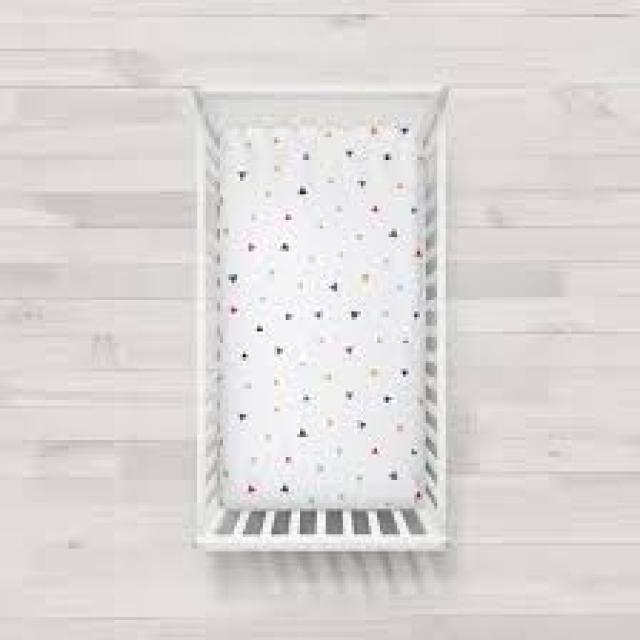crib: (189, 80, 454, 554)
